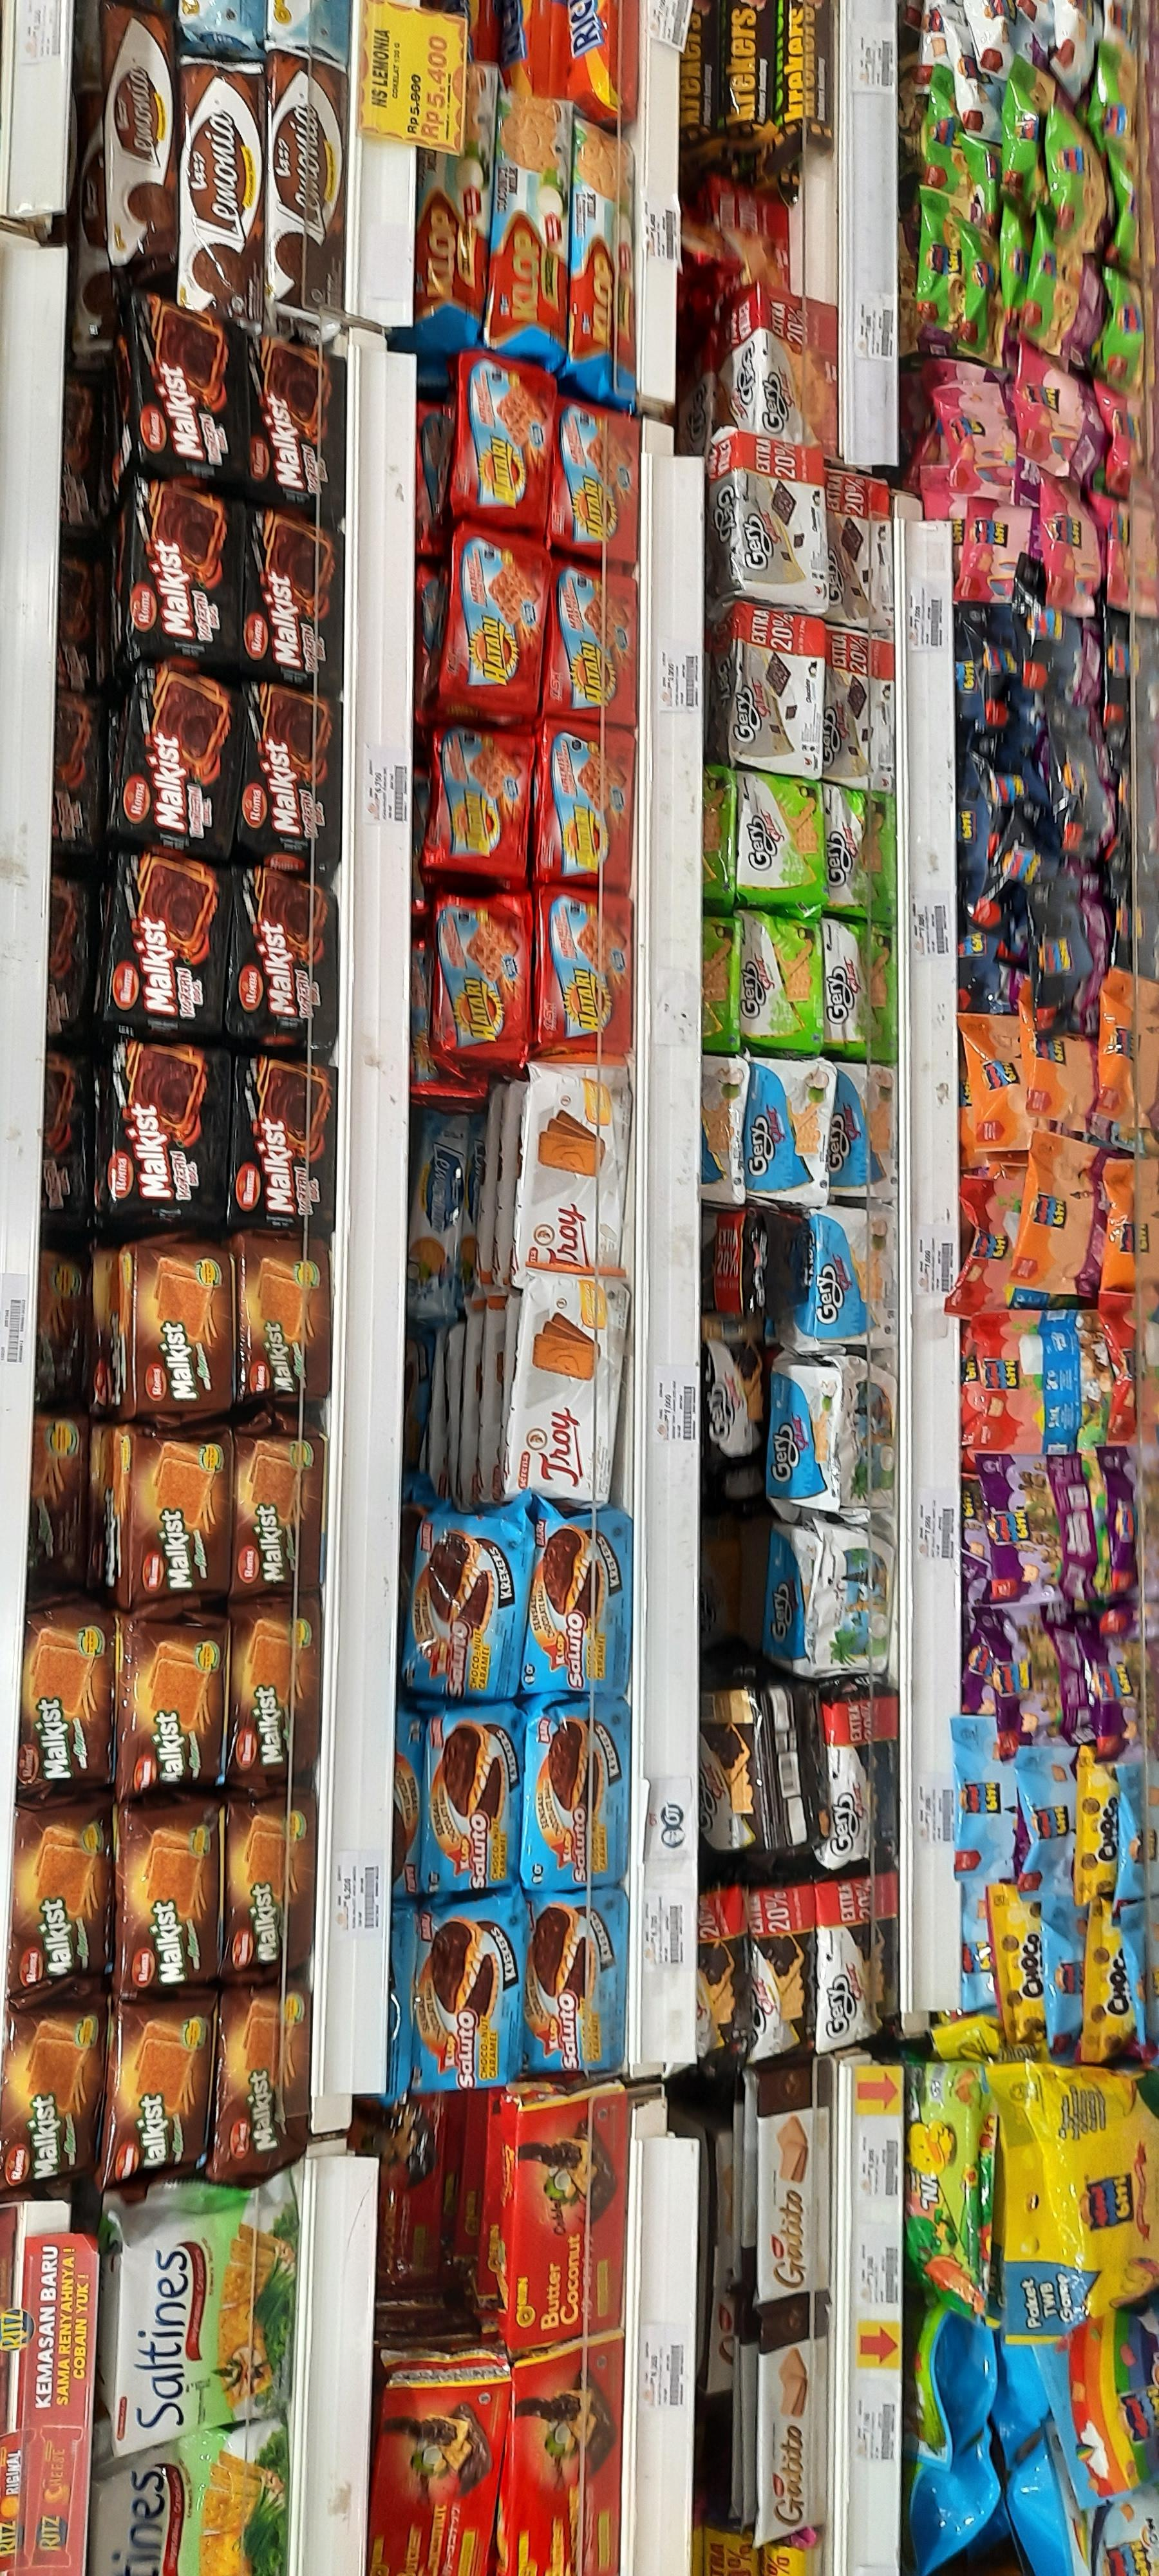90101225202101: (816, 1871, 900, 2052), (816, 1695, 900, 1871), (747, 1884, 816, 2063), (699, 1341, 770, 1464)
90101225209100: (744, 1056, 832, 1204), (814, 1207, 900, 1344), (768, 1367, 842, 1510), (827, 1065, 898, 1201)
90101225212101: (734, 770, 824, 905), (739, 912, 821, 1048), (822, 918, 898, 1061), (822, 782, 896, 910)
90101225218101: (734, 605, 824, 774), (735, 439, 824, 603), (824, 629, 896, 790), (826, 473, 893, 629)
90101225226101: (722, 281, 839, 437)
HatariMalkistSugarCrackers: (442, 527, 548, 716), (455, 360, 555, 522), (537, 718, 634, 885), (427, 724, 534, 876), (538, 887, 634, 1053), (432, 897, 529, 1056), (545, 565, 639, 720), (553, 398, 640, 550)
KlopCoconutMilkCrackers: (489, 100, 571, 355), (573, 117, 635, 398)
KlopSalutoChocoNutCaramel: (410, 1888, 525, 2091), (520, 1695, 634, 1891), (402, 1511, 520, 1699), (524, 1497, 632, 1694), (419, 1705, 522, 1888), (525, 1889, 627, 2072)
NabatiGatitoLidahKucingCokelat: (755, 2068, 831, 2295), (757, 2308, 827, 2543)
NissinButterCoconut: (369, 2367, 511, 2576), (506, 2091, 629, 2330), (509, 2353, 624, 2576)
NissinLemoniaChocolate: (266, 64, 348, 317), (182, 64, 263, 320), (105, 5, 177, 263)
RomaMalkistAbon: (100, 1989, 217, 2185), (8, 1796, 110, 2004), (118, 1612, 228, 1801), (115, 1799, 222, 1991), (215, 1988, 310, 2175), (228, 1594, 320, 1787), (20, 1608, 113, 1797), (0, 2012, 102, 2183), (126, 1436, 230, 1602), (222, 1797, 314, 1983), (135, 1244, 231, 1418), (240, 1234, 328, 1405), (233, 1434, 327, 1595)
RomaMalkistKoreanBBQ: (90, 848, 231, 1030), (94, 1038, 230, 1222), (107, 660, 236, 848), (126, 475, 240, 660), (227, 866, 338, 1045), (240, 682, 343, 869), (230, 1056, 337, 1232), (245, 504, 343, 688), (130, 322, 243, 476), (248, 334, 348, 504)
SaltinesVegetableCrackers: (105, 2183, 295, 2453)
SerenaCaramelisedBiscuitTroy: (511, 1272, 629, 1505), (524, 1058, 629, 1270)
